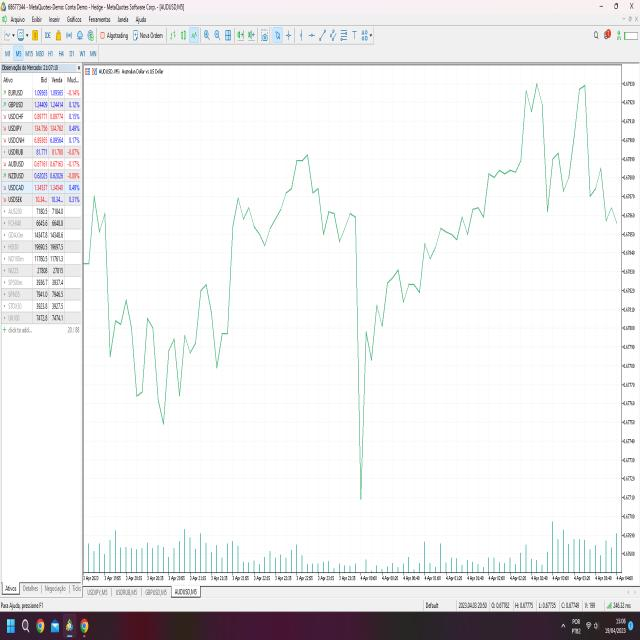oco: (211, 117, 369, 305)
oco_inv: (122, 292, 195, 433)
